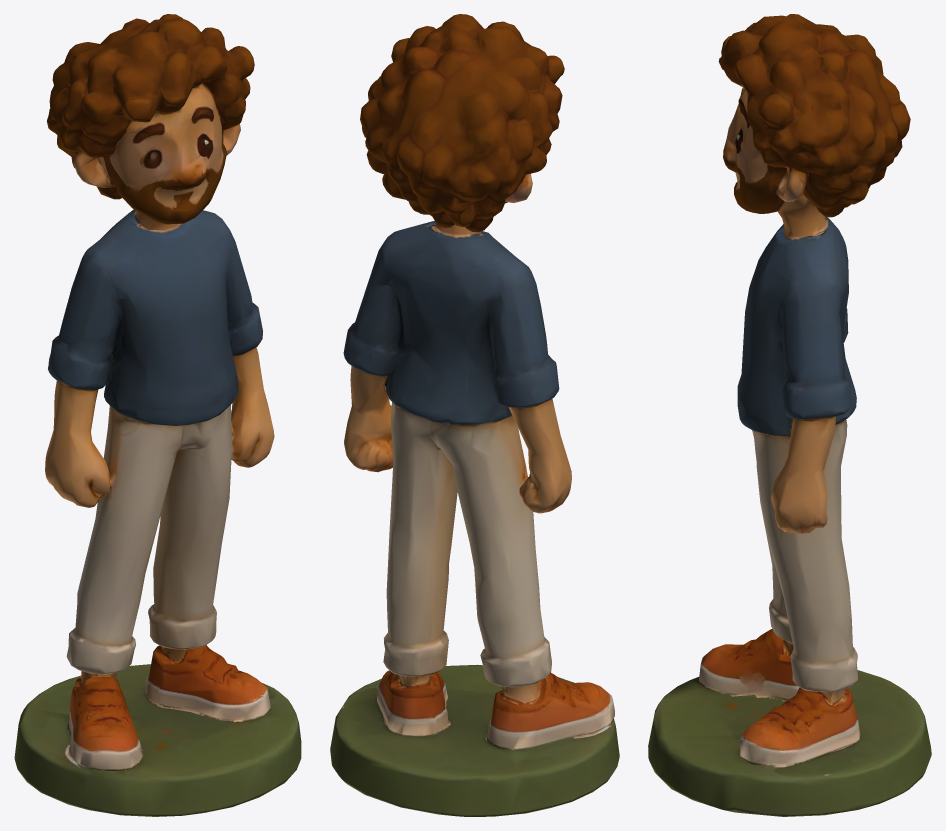
File: marker-lorenzo.glb
The picture shows the model from 3 angles, left to right: view 1: azimuth 30°, elevation 25°; view 2: azimuth 150°, elevation 25°; view 3: azimuth 270°, elevation 25°; orthographic projection.
Visible parts, largest first — view 1: textured_mesh.obj; view 2: textured_mesh.obj; view 3: textured_mesh.obj.
Part boxes in pixels (x1,y1,x2,y2): textured_mesh.obj: [14, 14, 301, 816]; textured_mesh.obj: [330, 14, 619, 816]; textured_mesh.obj: [648, 14, 931, 816].
Size of the model in its own units: 0.3575 by 0.9991 by 0.348.
Materials: 1 (1 with a texture image).
